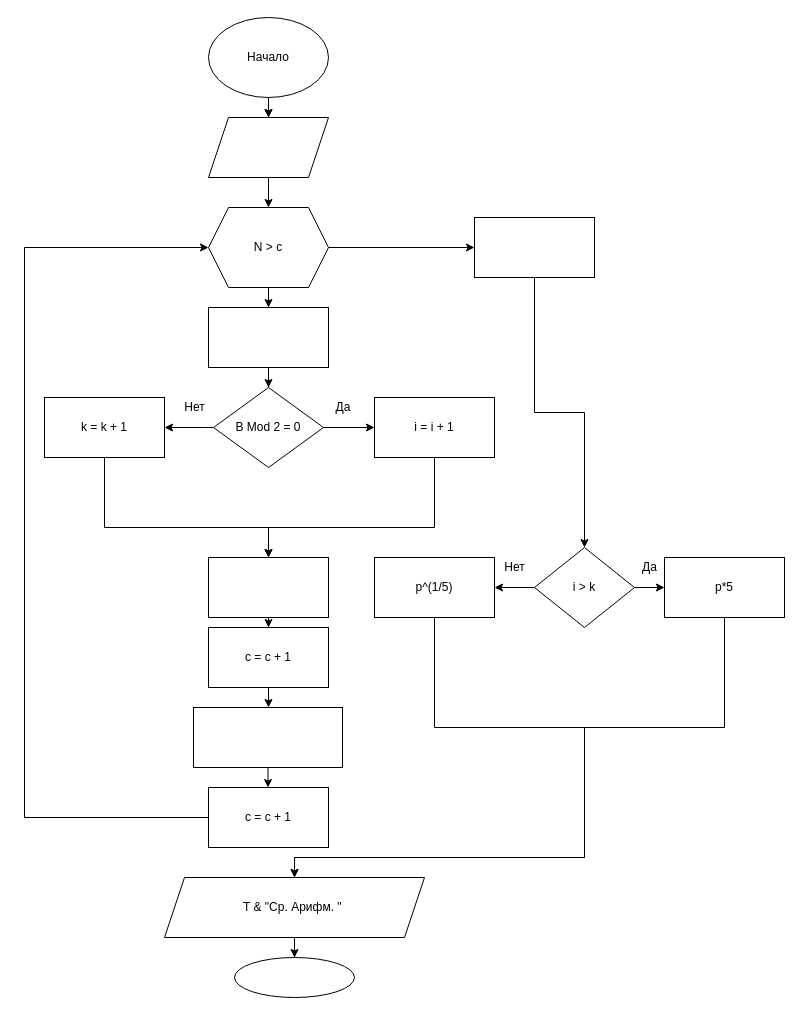
This 802x1015 diagram has some shape labels left out. The shapes that lost their labels are listed below. From the top down, each one's centre as x and y in pixels, then its label:
the point at 268,147: N, i , k, c
the point at 534,247: p = S / c
the point at 268,337: B = Int(Rnd*89)+10
the point at 268,587: S = S + B
the point at 267,737: T = T & "Значения ряда " & B & vbNewLine
the point at 294,977: Конец
